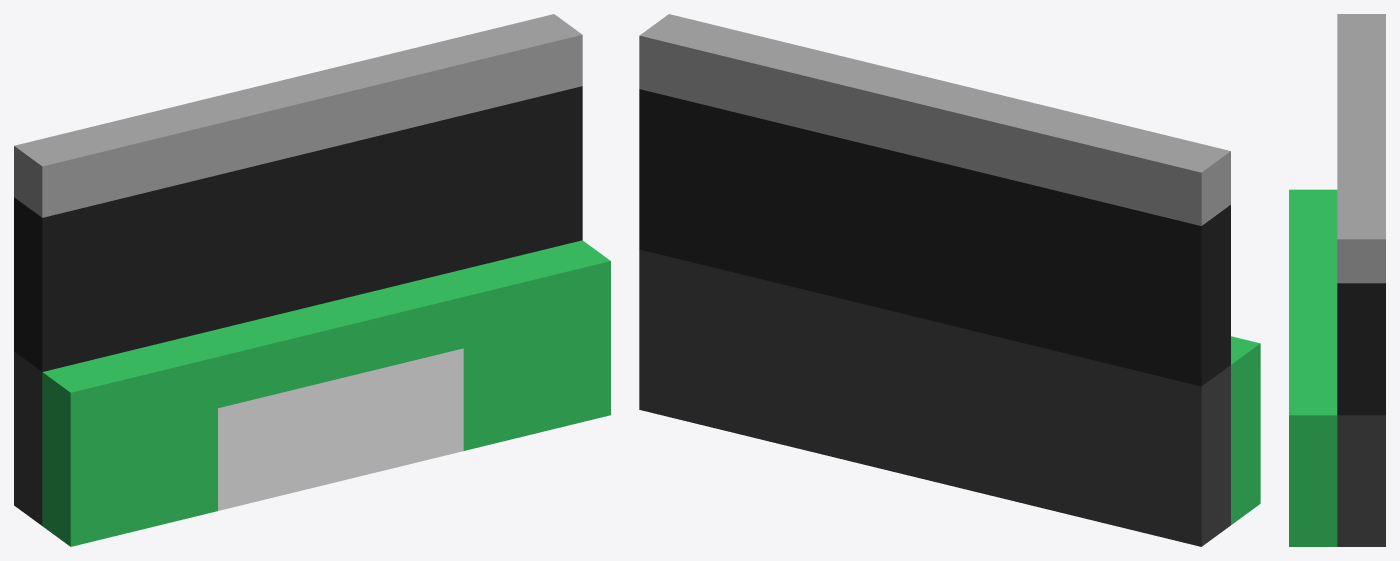
Rendered from cars-1.obj.
The picture shows the model from 3 angles, left to right: view 1: azimuth 30°, elevation 25°; view 2: azimuth 150°, elevation 25°; view 3: azimuth 270°, elevation 25°; orthographic projection. The views are drawn at different scales.
Bounding box in the file's own units: 1.1 × 0.7 × 0.2.
1 material, 1 textured.
